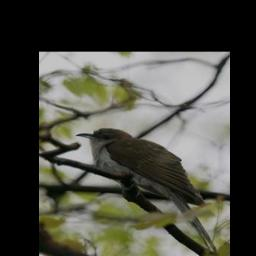Cuckoo: (76, 127, 219, 255)
